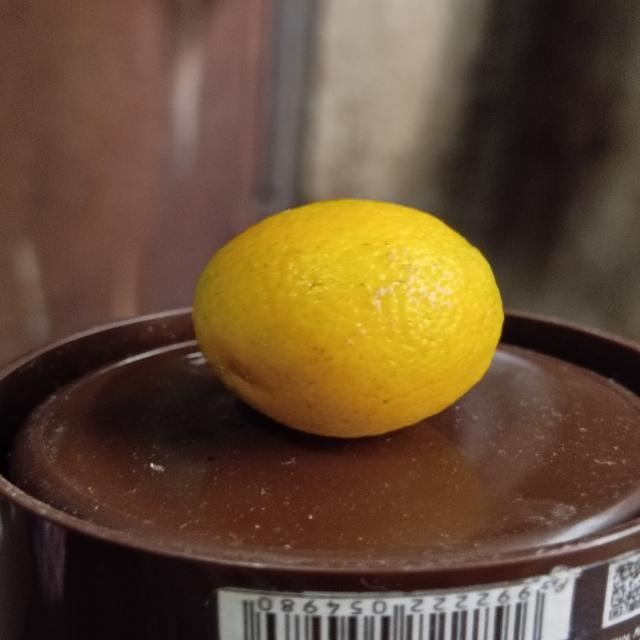greening: (192, 200, 511, 444)
